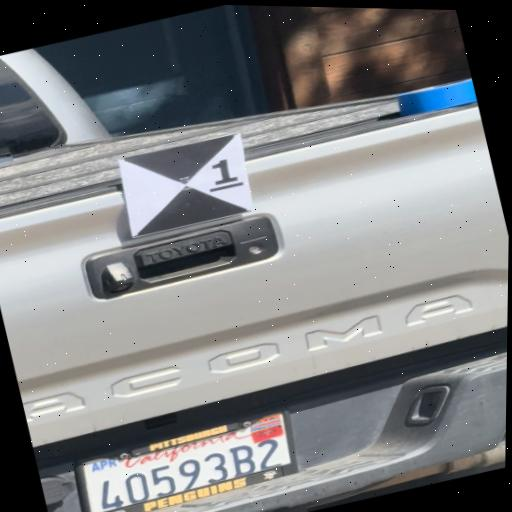target1: (118, 130, 254, 239)
